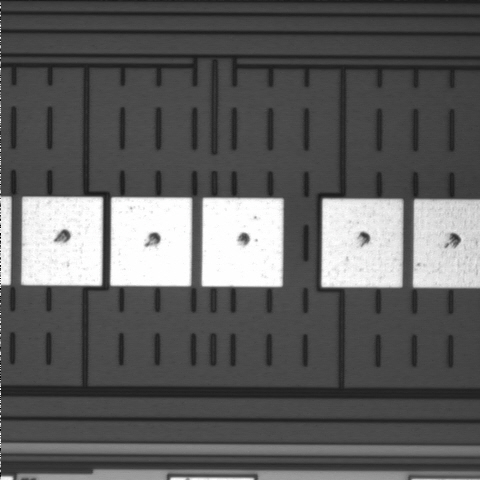pad: (21, 197, 103, 286), (110, 197, 192, 286), (321, 199, 403, 287), (202, 198, 283, 287)
